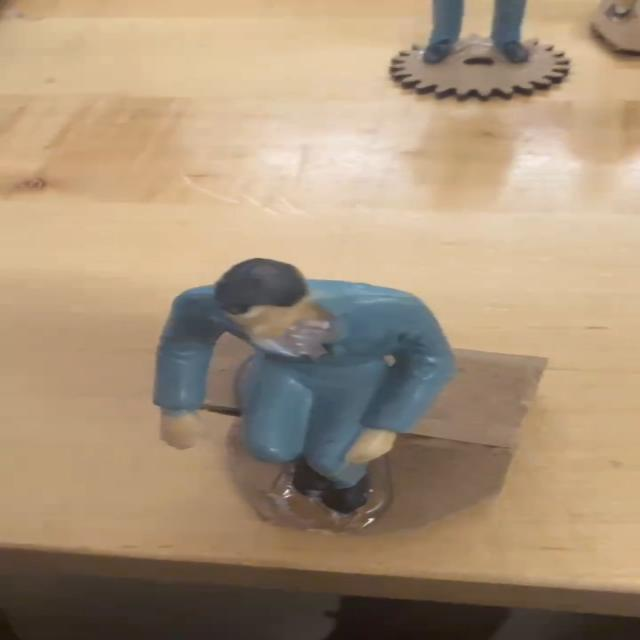Authorized: (55, 249, 590, 554)
